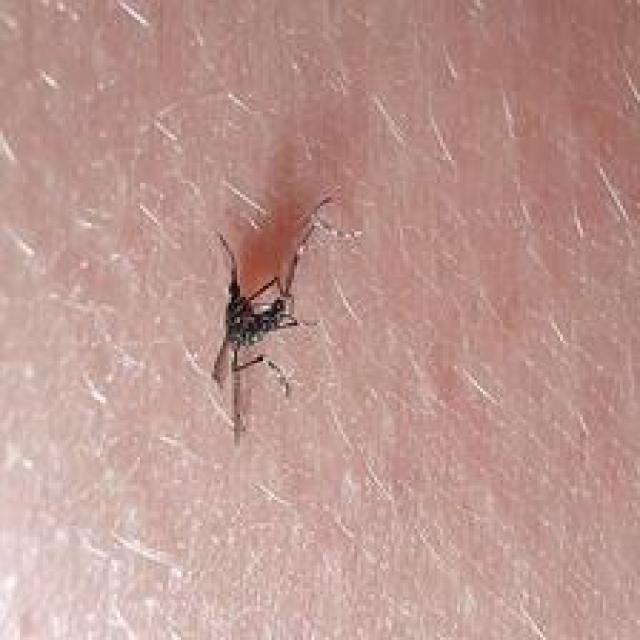Aedes albopictus: (206, 194, 337, 446)
